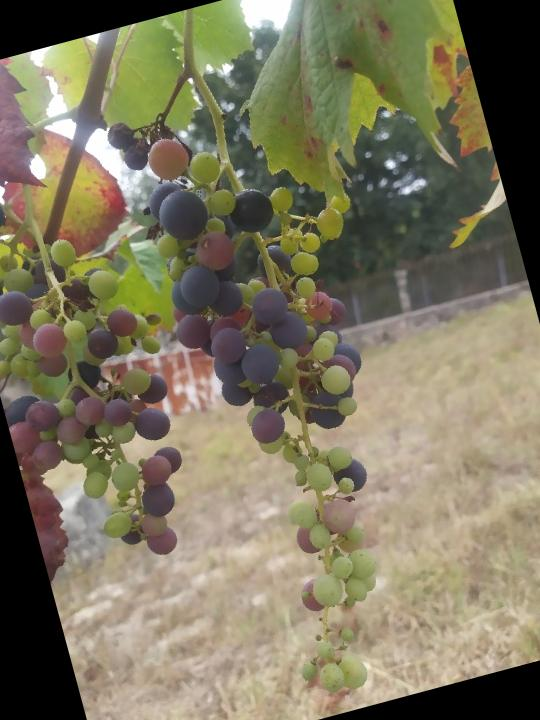grape: (106, 69, 473, 713), (0, 157, 220, 589)
